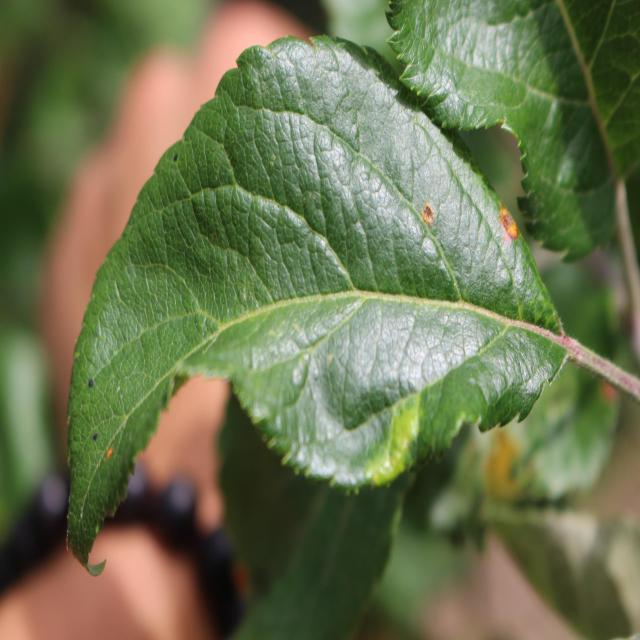Rust: (475, 180, 529, 260), (408, 173, 450, 250)
